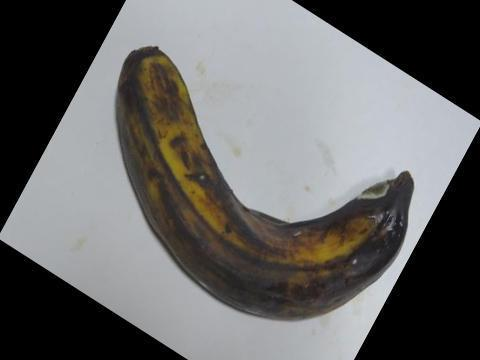rotten: (105, 28, 439, 331)
